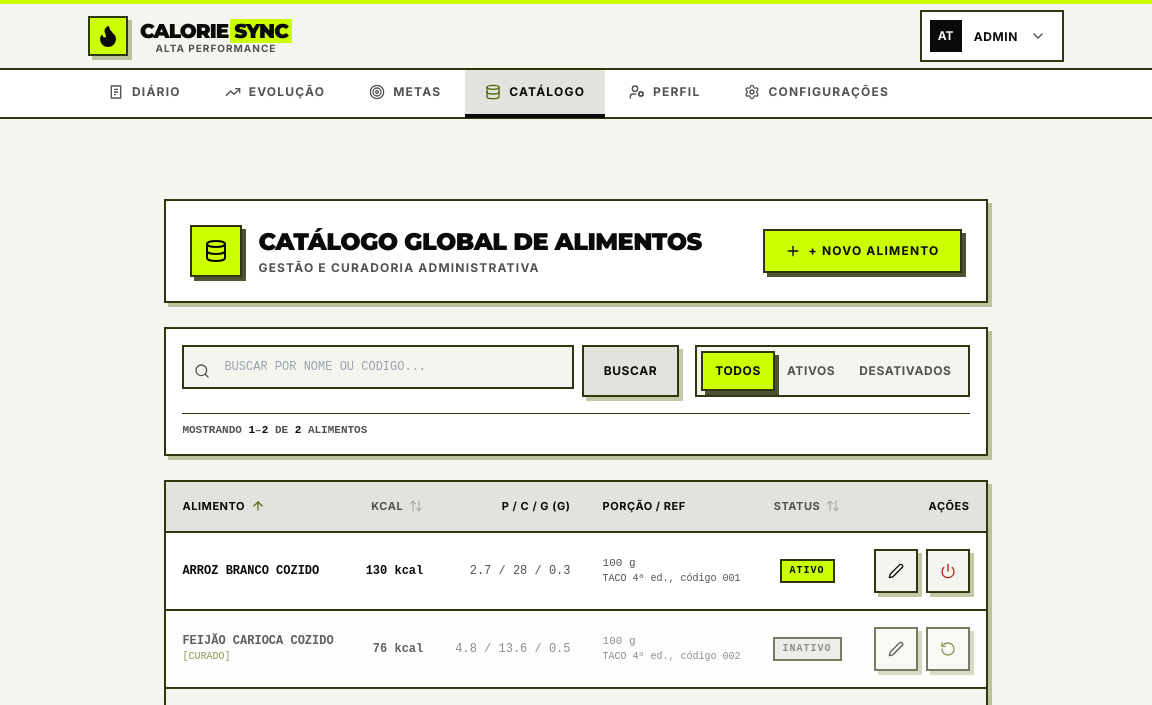
it: Painel do Catálogo Global (Admin) › Exibe estado vazio com botão "Limpar Filtros" quando não há resultados
Type "alimento_inexistente_xyz" into the field with placeholder "BUSCAR POR NOME OU CÓDIGO..." at {"x": 378, "y": 367}, box [182,345,574,389]
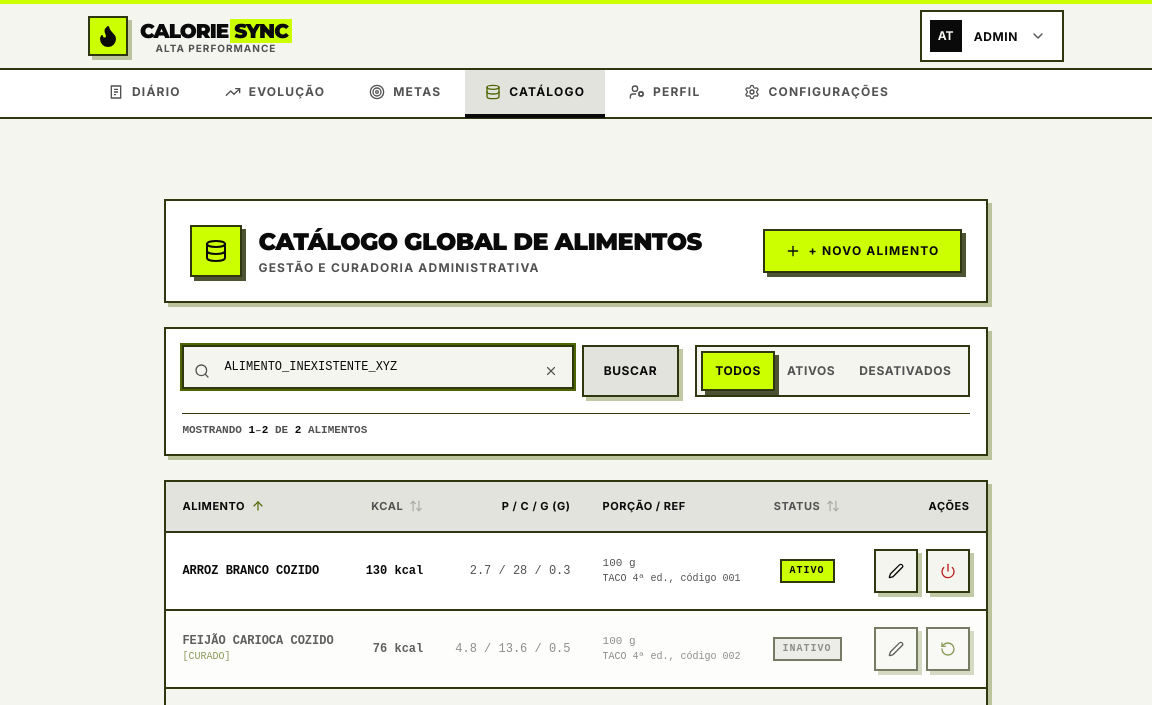
Click the button "Buscar" at {"x": 630, "y": 371}, box [582,345,679,397]
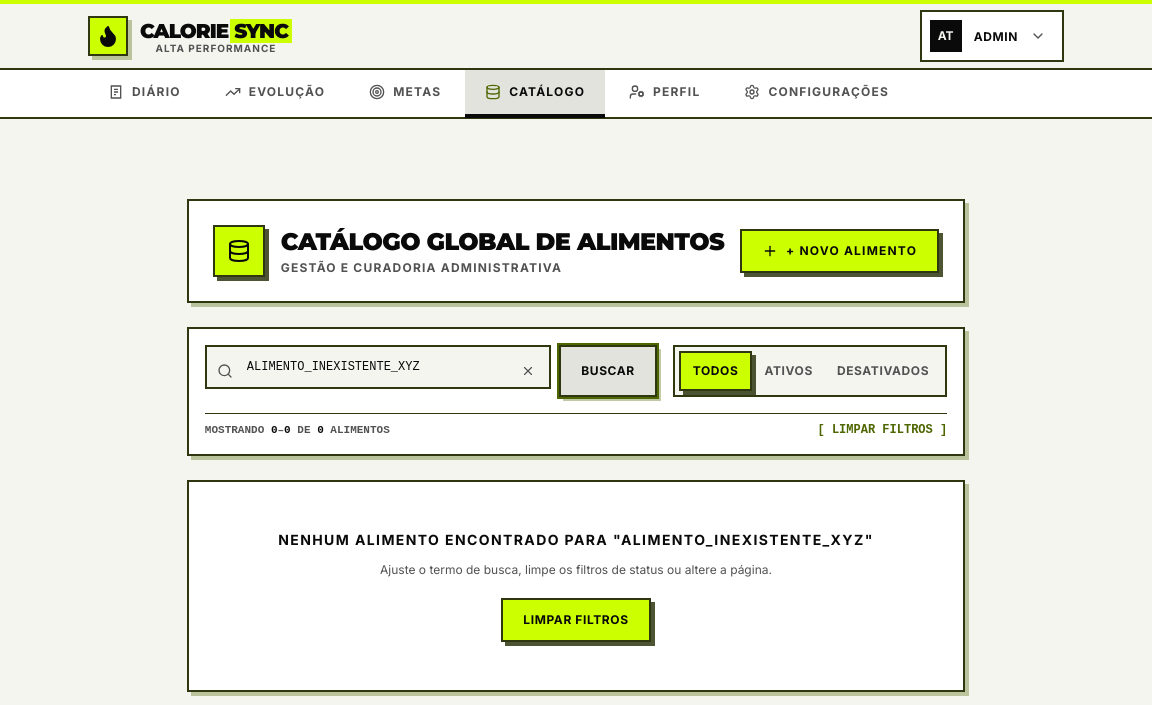
expect the text "NENHUM ALIMENTO ENCONTRADO PARA \"alimento_inexistente_xyz\"" is shown: met, box [237,530,915,550]
Click the button "[ Limpar filtros ]" at {"x": 882, "y": 430}, box [818,422,947,438]
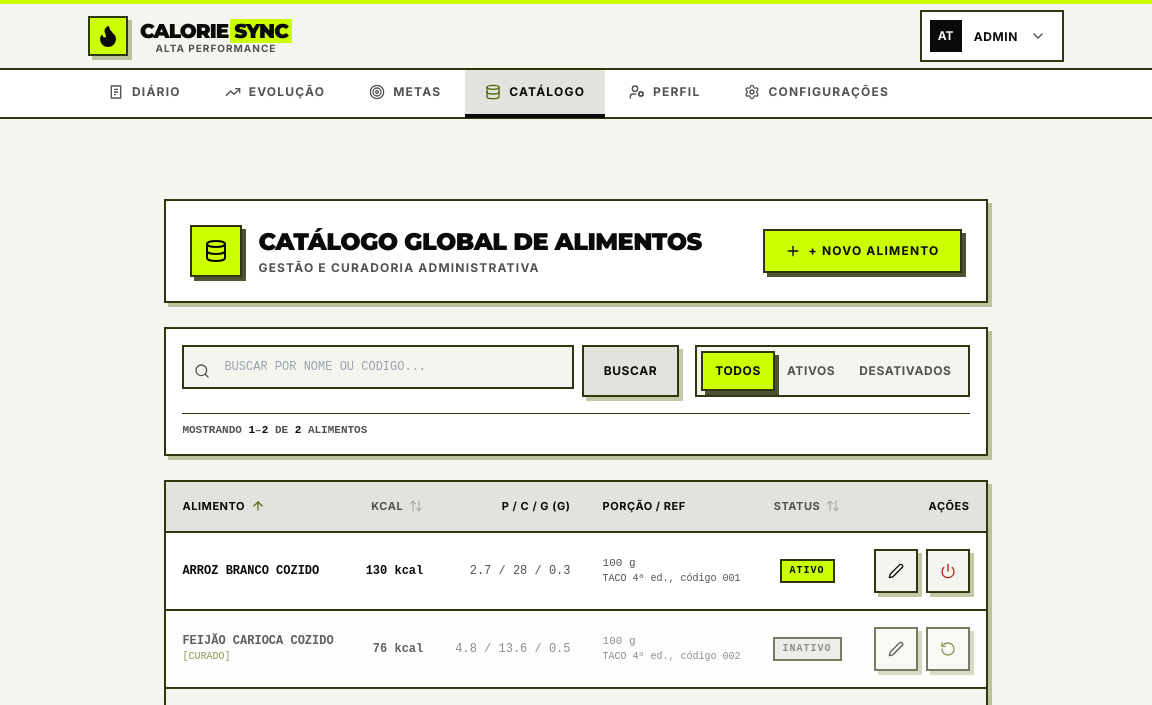
expect the text "Arroz Branco Cozido" is shown: met, box [182,562,334,578]
